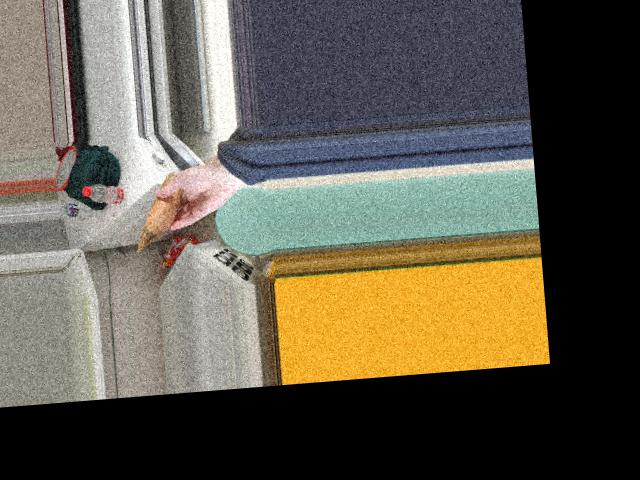sweet_potato: (144, 179, 188, 229)
